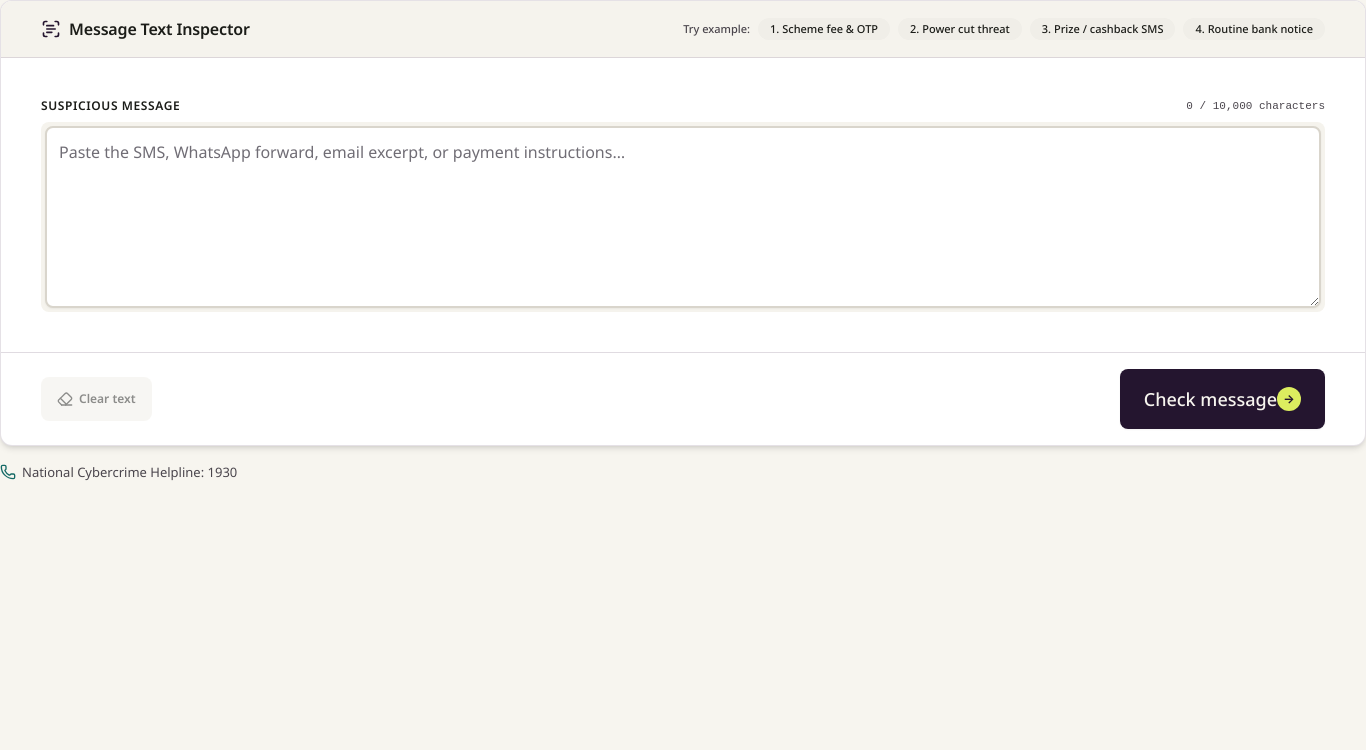
Test case: FraudChecker › renders high-risk result correctly
Type "Pay ₹500 to activate your benefit" into the text box labelled "Suspicious message".
click(683, 217); type("Pay ₹500 to activate your benefit")  # box left=45, top=126, right=1321, bottom=308
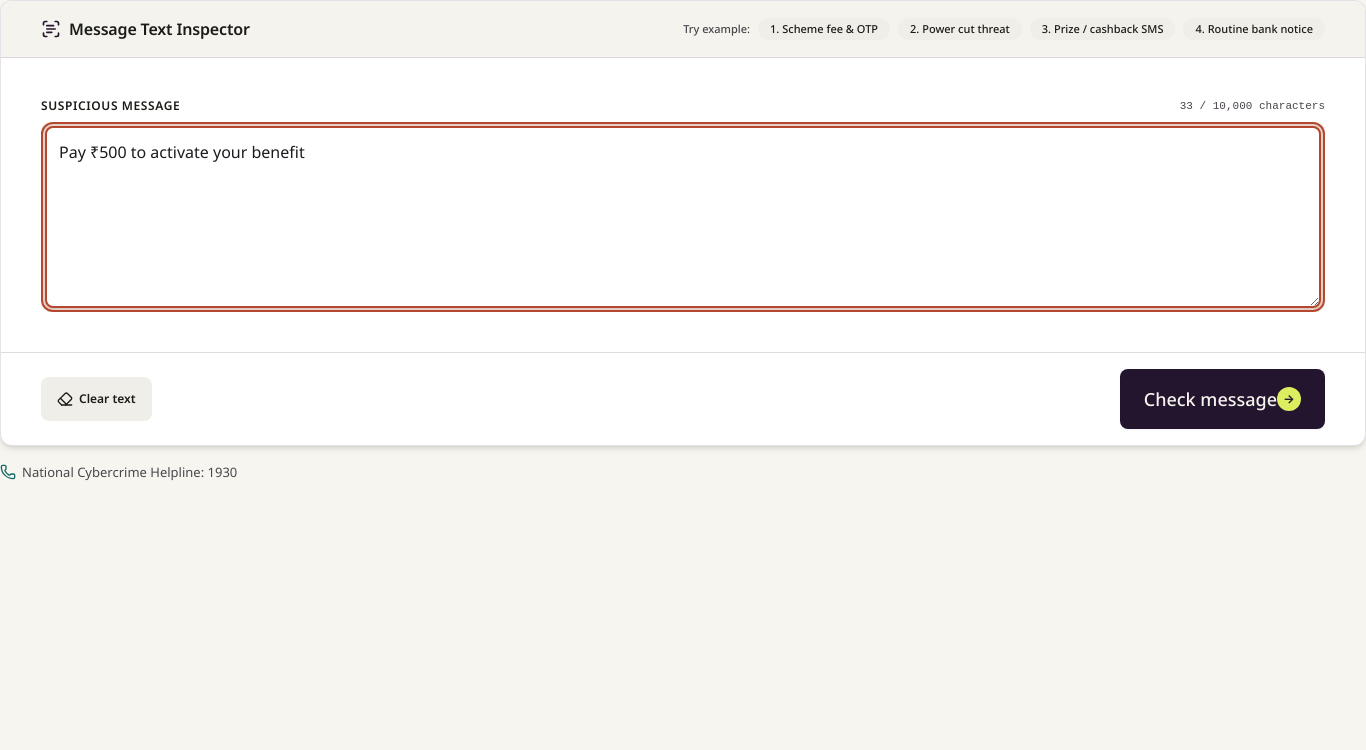
Click the button "Check message →".
click(1222, 399)  # box left=1120, top=369, right=1325, bottom=429
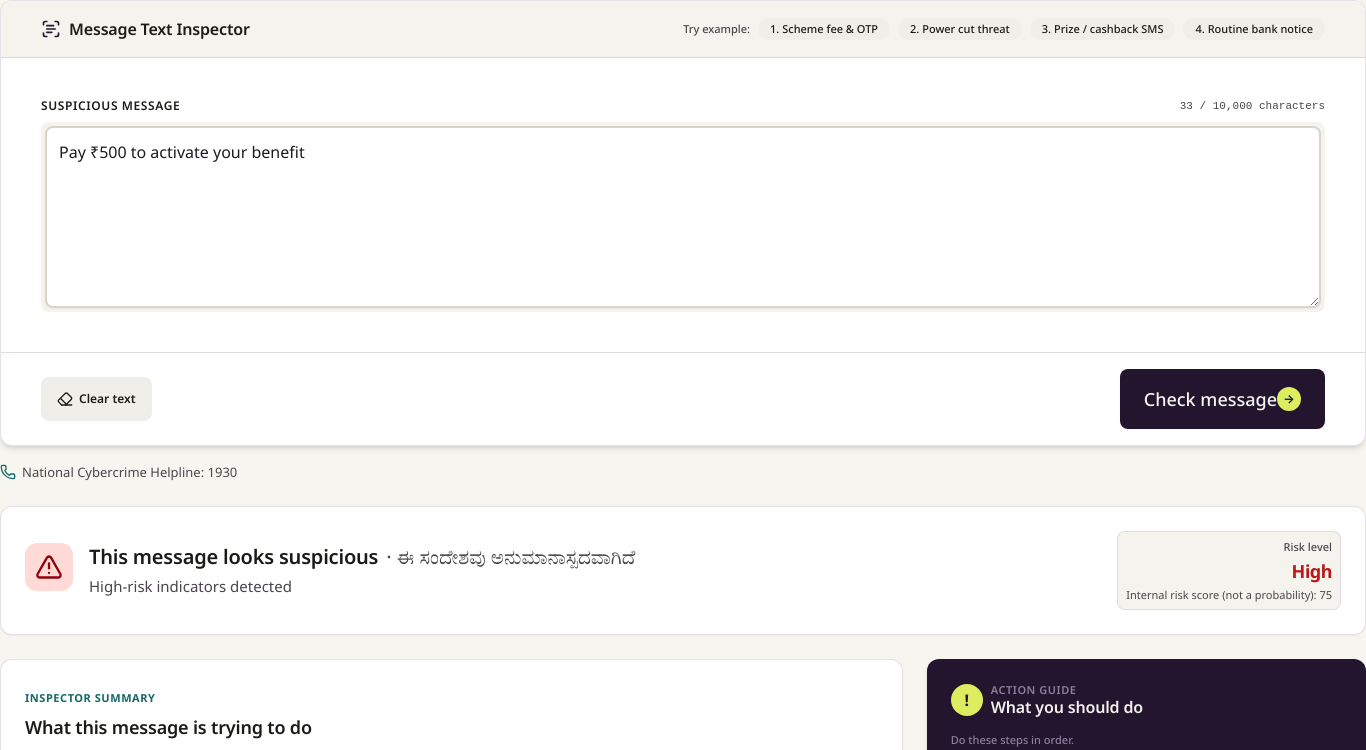
Expected: the message shows "High", left=1292, top=559, right=1332, bottom=583
Expected: the message shows "High-risk indicators detected", left=89, top=576, right=292, bottom=596
Expected: the heading "What you should do" is shown, left=991, top=697, right=1143, bottom=717
